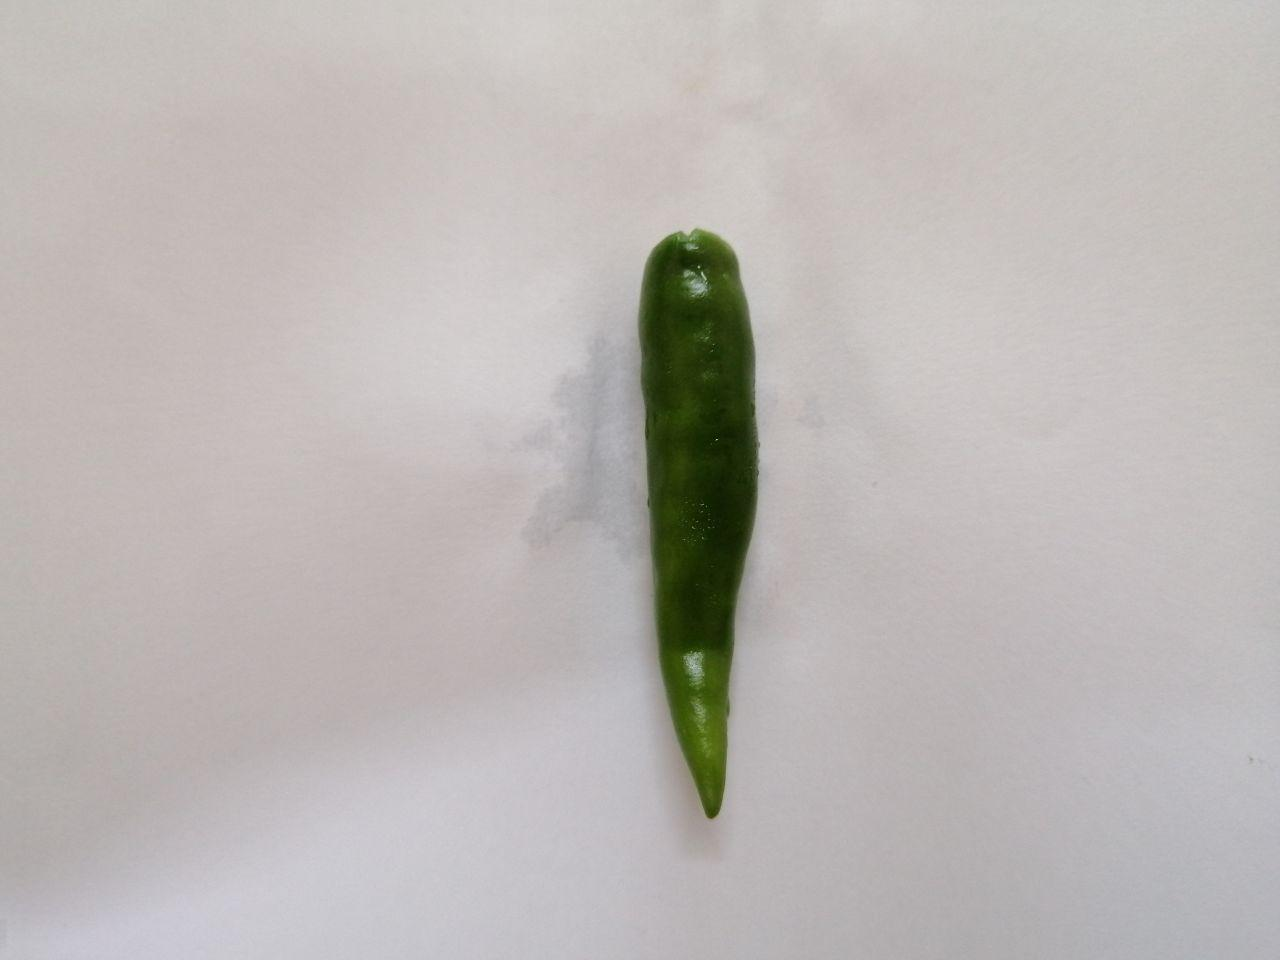lada hijau: (618, 215, 772, 839)
